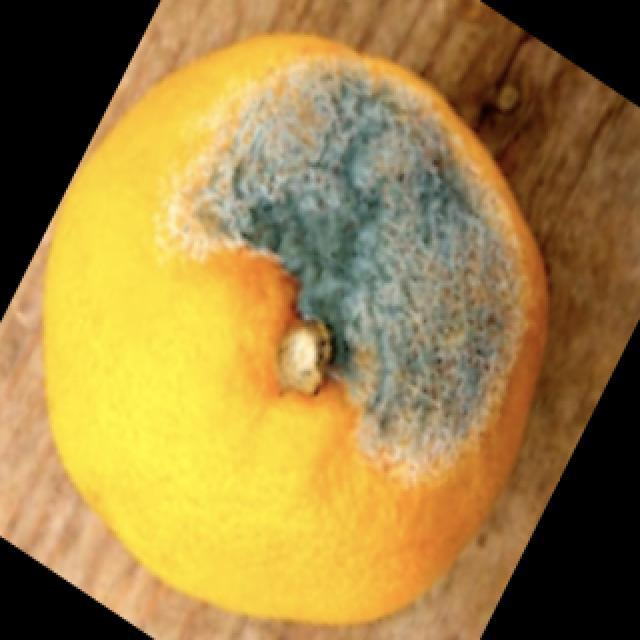sedikit-busuk: (44, 35, 546, 623), (190, 66, 523, 460)
